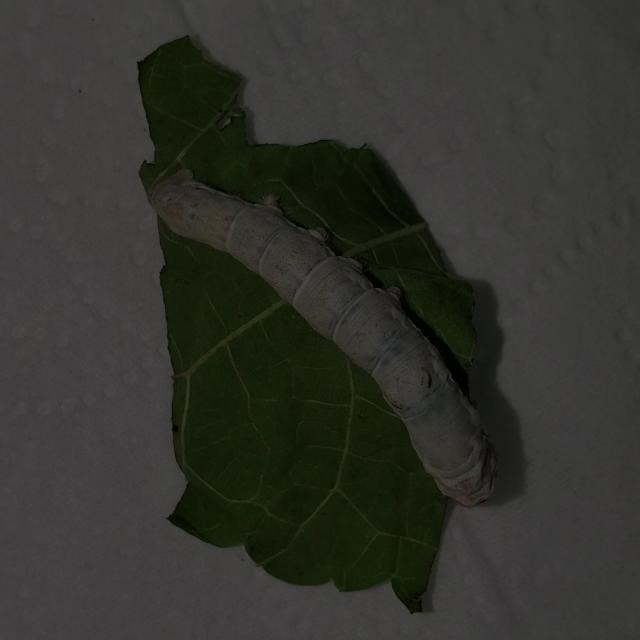Healthy: (128, 145, 514, 520)
